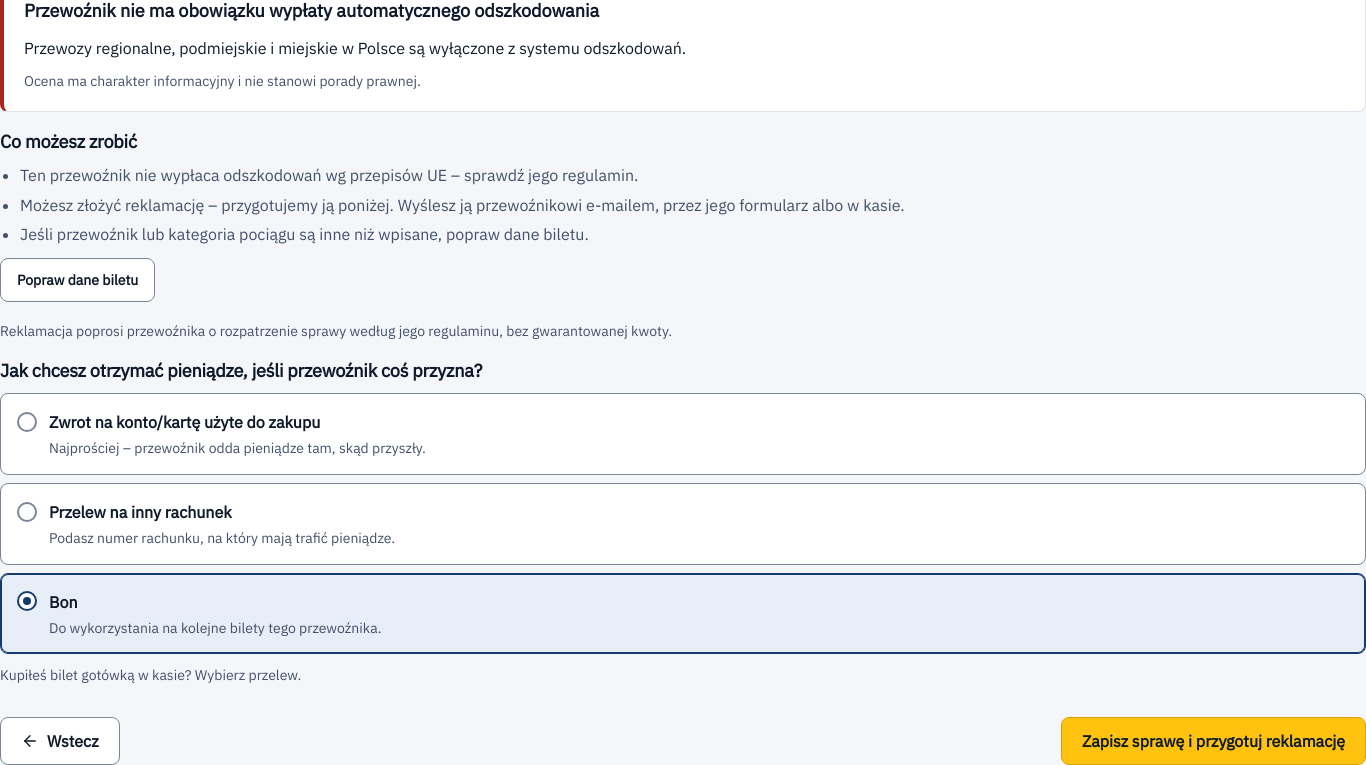
Test case: ResultStep – verdicts › keeps an honest verdict for a train that is not covered, and still prepares a complaint under the carrier’s rules
This screenshot has width=1366, height=765.
(page scrolled)
Expected: the list item "nie wypłaca odszkodowań wg przepisów UE" is shown, 20,165 -> 638,185
Expected: the text "według jego regulaminu, bez gwarantowanej kwoty" is shown, 0,322 -> 672,340
Click the button "Zapisz sprawę i przygotuj reklamację" at [1213, 741], box 1061,717 -> 1365,764
(page scrolled)
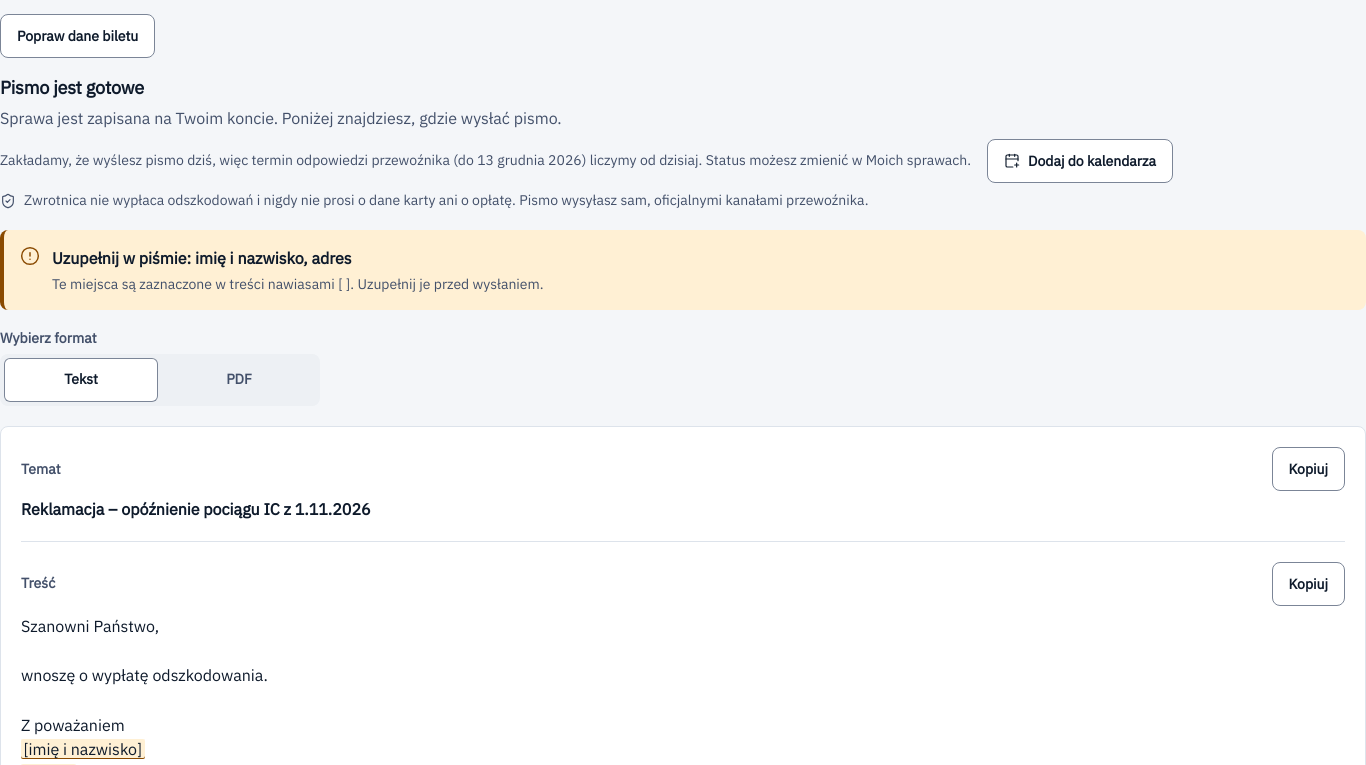
Now the text "Reklamacja – opóźnienie pociągu IC z 1.11.2026" is shown, box 21,499 -> 371,519
